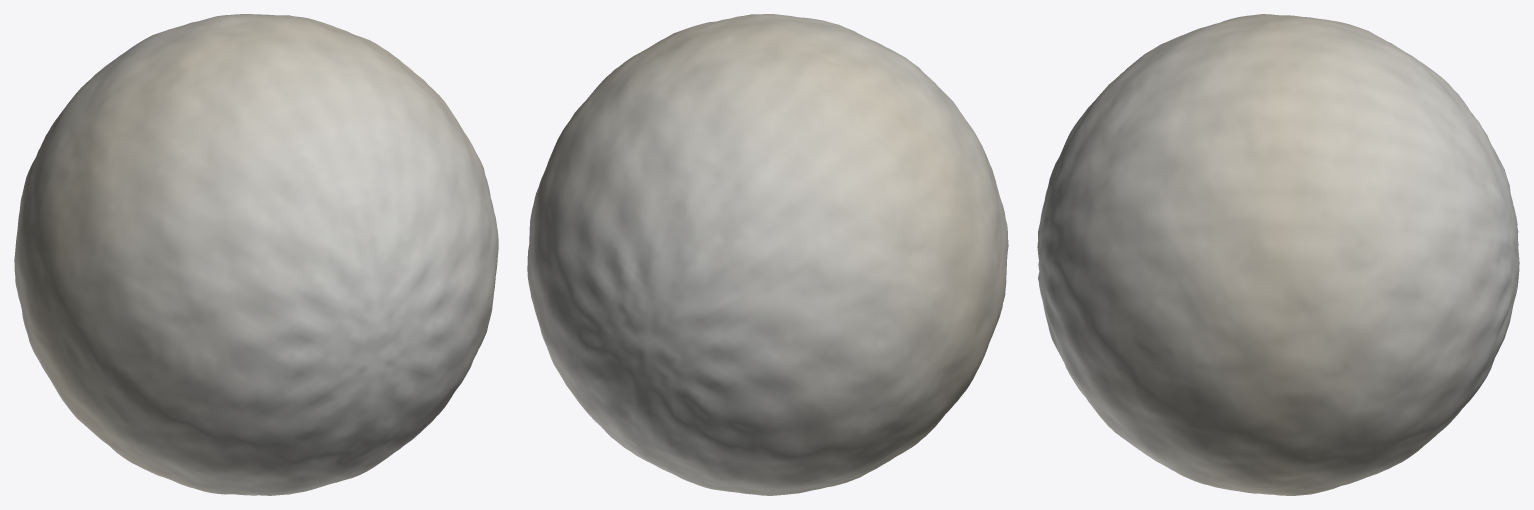
The model's file is planet_7.glb.
3 renders of one model, left to right at view 1: azimuth 30°, elevation 25°; view 2: azimuth 150°, elevation 25°; view 3: azimuth 270°, elevation 25°, orthographic.
Parts seen in each view (by area): view 1: world; view 2: world; view 3: world.
Boxes of the visible parts, x1,y1,x2,y2 form: world: (14,14,498,495); world: (527,14,1008,495); world: (1037,14,1519,495).
Bounding box in the file's own units: 2 × 2.01 × 2.01.
